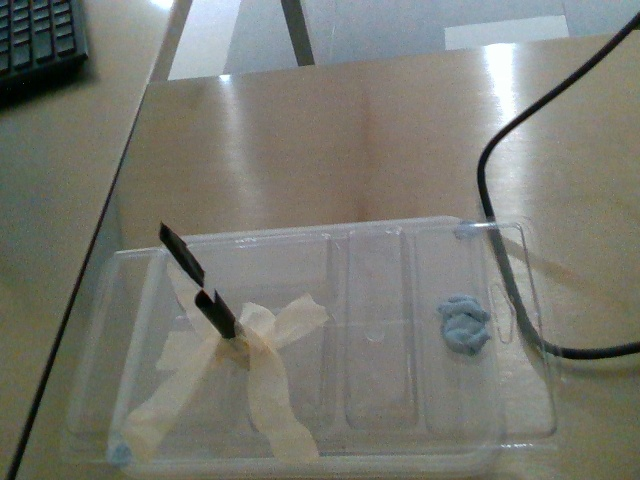test_strip: (155, 218, 213, 296)
